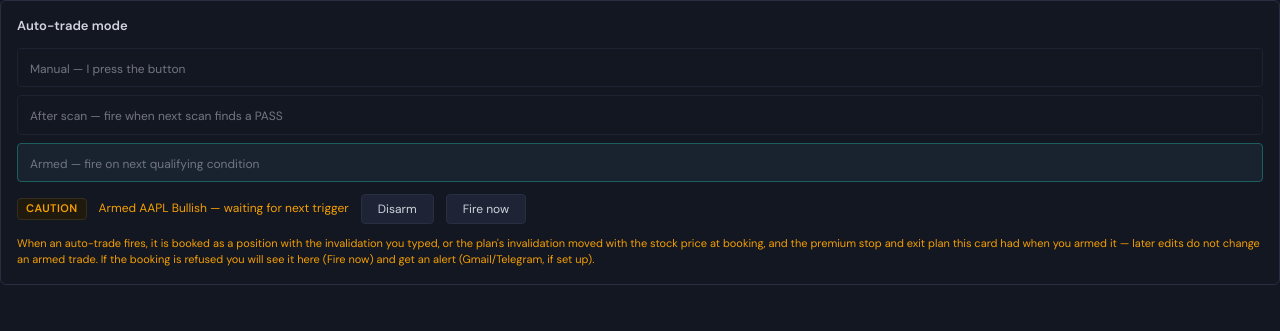
AutoTradeArm — O4 step 6: reading the /fire result › 15a. a transport failure is UNKNOWN: caution, status re-read, portfolio synced
This screenshot has width=1280, height=331.
Click the button "Fire now". click: (486, 209)
box: [446,194,526,224]
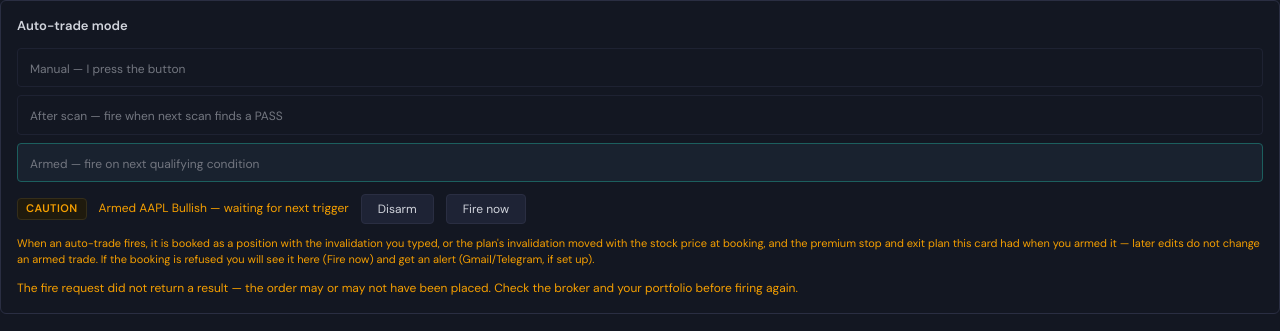
Expected: the text "may or may not have been placed" is shown, [17,280,798,296]
